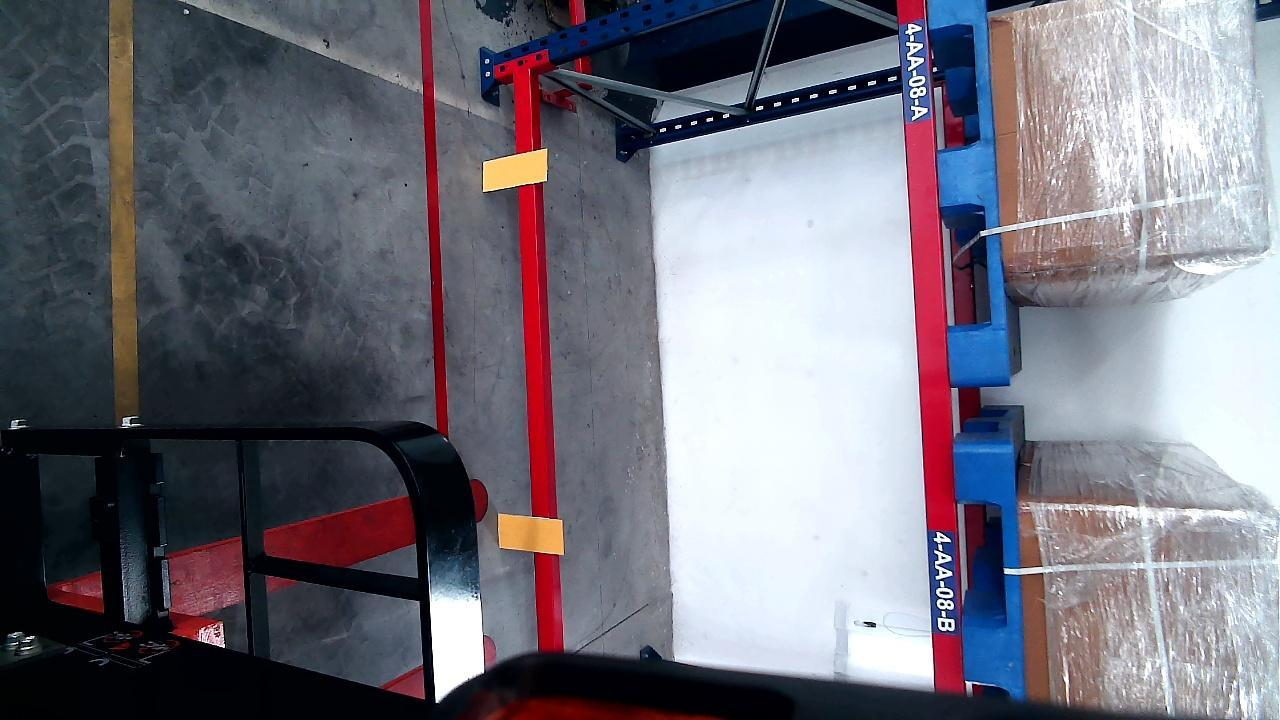red_line: (418, 2, 450, 435)
yellow_line: (109, 0, 139, 417)
